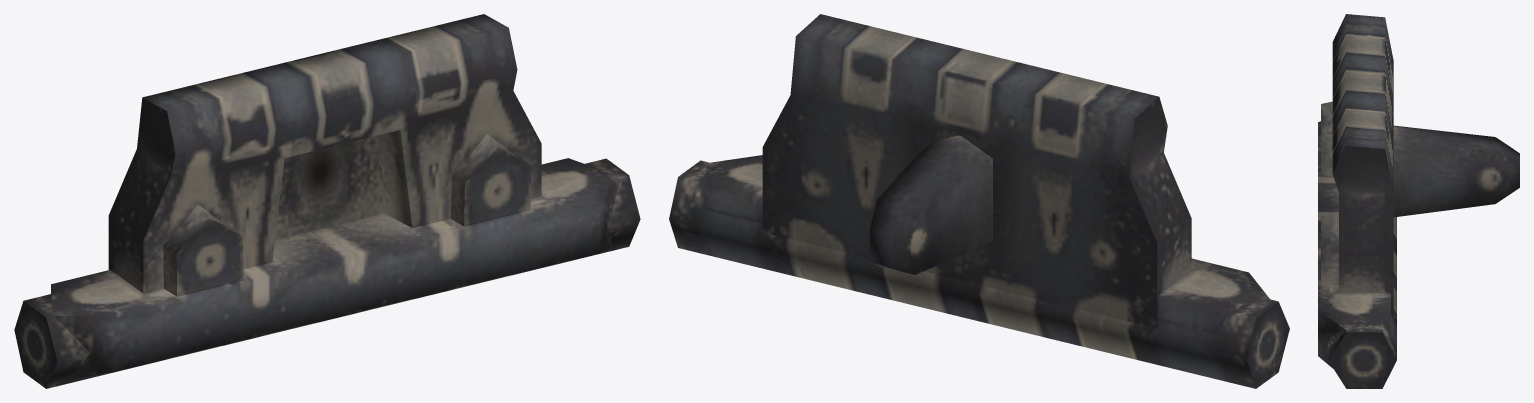
3 renders of one model, left to right at view 1: azimuth 30°, elevation 25°; view 2: azimuth 150°, elevation 25°; view 3: azimuth 270°, elevation 25°, orthographic. The views are drawn at different scales.
Visible parts, largest first — view 1: set_0_group_0; view 2: set_0_group_0; view 3: set_0_group_0.
Boxes of the visible parts, x1,y1,x2,y2 form: set_0_group_0: (14, 14, 640, 388); set_0_group_0: (669, 14, 1289, 388); set_0_group_0: (1318, 14, 1519, 388).
Size of the model in its own units: 0.56 by 0.2281 by 0.2123.
Materials: 1 (1 with a texture image).
